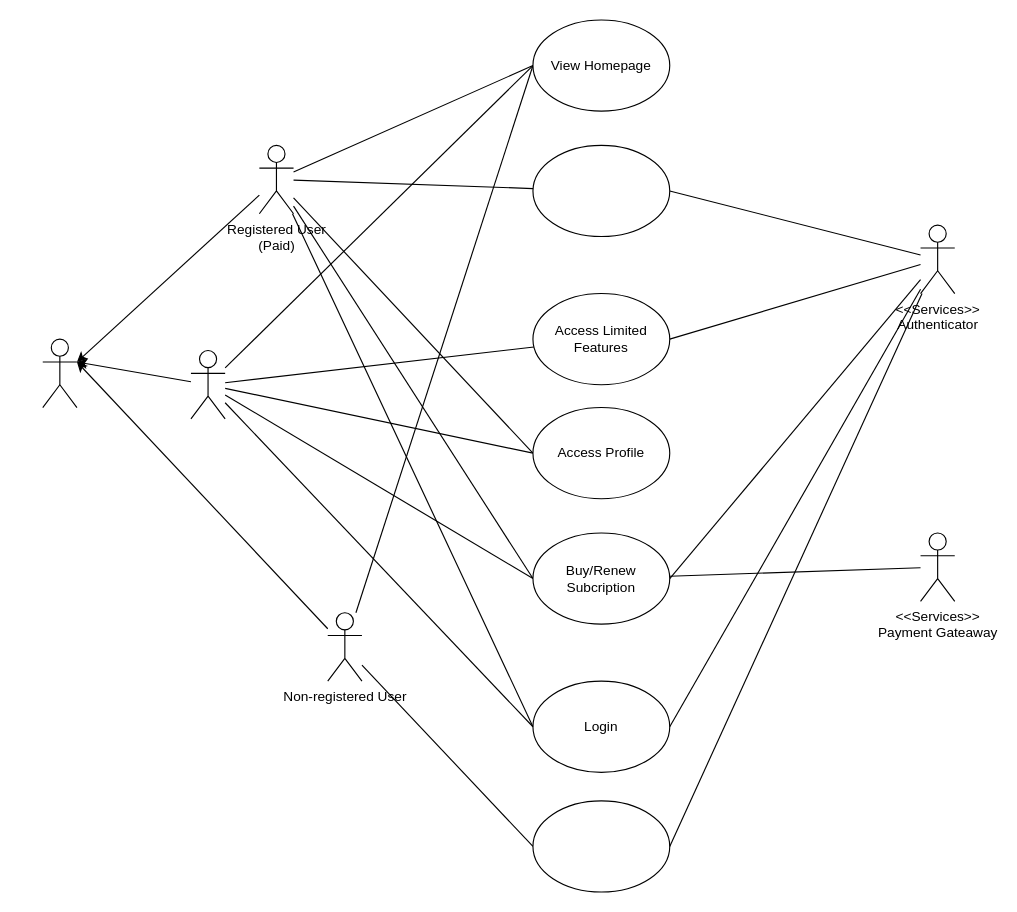
This 1017x912 diagram has some shape labels left out. Here are the shapes that lost their labels. From the top down, the centre of each, then its label:
[601,190]: Access Full Features
[59,373]: General User
[207,384]: Registered User (Free)
[601,846]: Register
